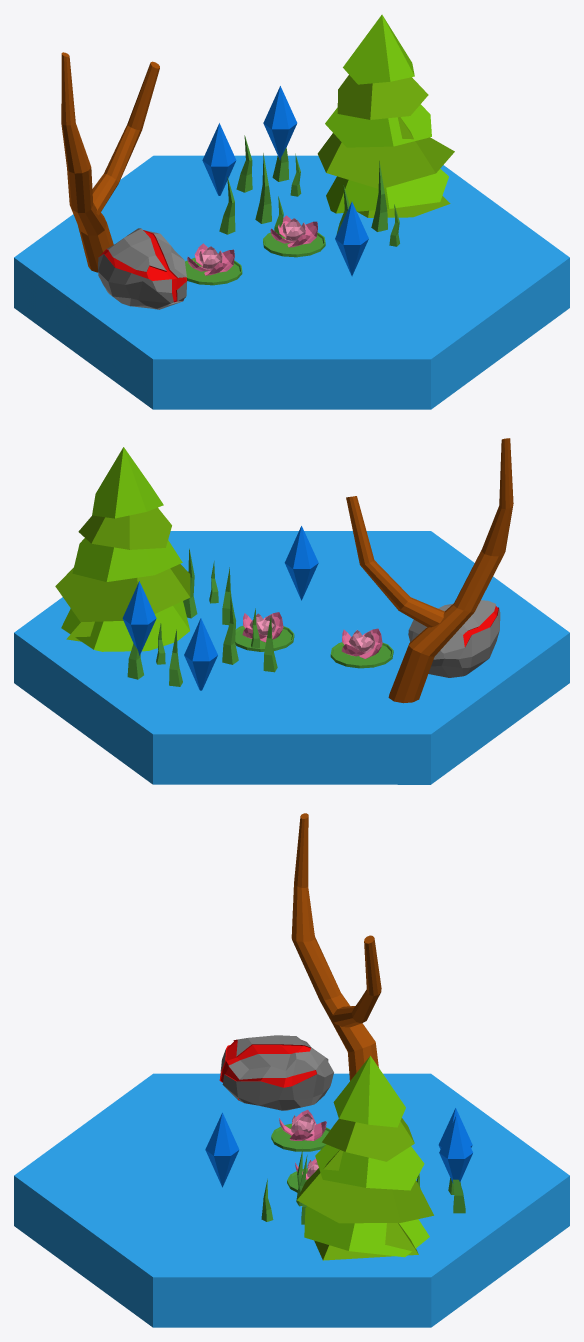
The model's file is landscape1.glb.
The picture shows the model from 3 angles, top to bottom: view 1: azimuth 30°, elevation 25°; view 2: azimuth 150°, elevation 25°; view 3: azimuth 270°, elevation 25°; orthographic projection.
Visible parts, largest first — view 1: ziran.824, ziran.842, ziran.896, ziran.848, ziran.826, ziran.827, ziran.906, ziran.908, ziran.907, ziran.851, ziran.852, ziran.850; view 2: ziran.824, ziran.842, ziran.896, ziran.848, ziran.827, ziran.826, ziran.906, ziran.908, ziran.907, ziran.851, ziran.852, ziran.850; view 3: ziran.824, ziran.842, ziran.848, ziran.896, ziran.827, ziran.906, ziran.907, ziran.850.
Boxes of the visible parts, left/top/right/bottom form: ziran.824: left=14, top=155, right=569, bottom=409; ziran.842: left=317, top=14, right=454, bottom=217; ziran.896: left=61, top=52, right=159, bottom=272; ziran.848: left=98, top=228, right=187, bottom=309; ziran.826: left=263, top=215, right=325, bottom=257; ziran.827: left=185, top=243, right=242, bottom=285; ziran.906: left=335, top=201, right=368, bottom=276; ziran.908: left=202, top=123, right=236, bottom=195; ziran.907: left=263, top=86, right=297, bottom=160; ziran.851: left=219, top=153, right=283, bottom=236; ziran.852: left=236, top=135, right=301, bottom=196; ziran.850: left=336, top=161, right=399, bottom=246; ziran.824: left=14, top=531, right=569, bottom=784; ziran.842: left=55, top=447, right=190, bottom=651; ziran.896: left=346, top=438, right=513, bottom=703; ziran.848: left=408, top=600, right=500, bottom=677; ziran.827: left=330, top=628, right=393, bottom=668; ziran.826: left=235, top=612, right=294, bottom=651; ziran.906: left=284, top=526, right=318, bottom=600; ziran.908: left=184, top=618, right=217, bottom=690; ziran.907: left=122, top=581, right=156, bottom=655; ziran.851: left=222, top=594, right=277, bottom=672; ziran.852: left=127, top=623, right=182, bottom=686; ziran.850: left=183, top=548, right=235, bottom=625; ziran.824: left=14, top=1073, right=569, bottom=1327; ziran.842: left=297, top=1056, right=433, bottom=1260; ziran.848: left=219, top=1035, right=333, bottom=1110; ziran.896: left=291, top=813, right=381, bottom=1080; ziran.827: left=271, top=1109, right=330, bottom=1151; ziran.906: left=205, top=1112, right=239, bottom=1187; ziran.907: left=439, top=1115, right=473, bottom=1183; ziran.850: left=261, top=1148, right=307, bottom=1224.
Size of the model in its own units: 4.5 by 3.01 by 5.
Materials: 1 (1 with a texture image).
